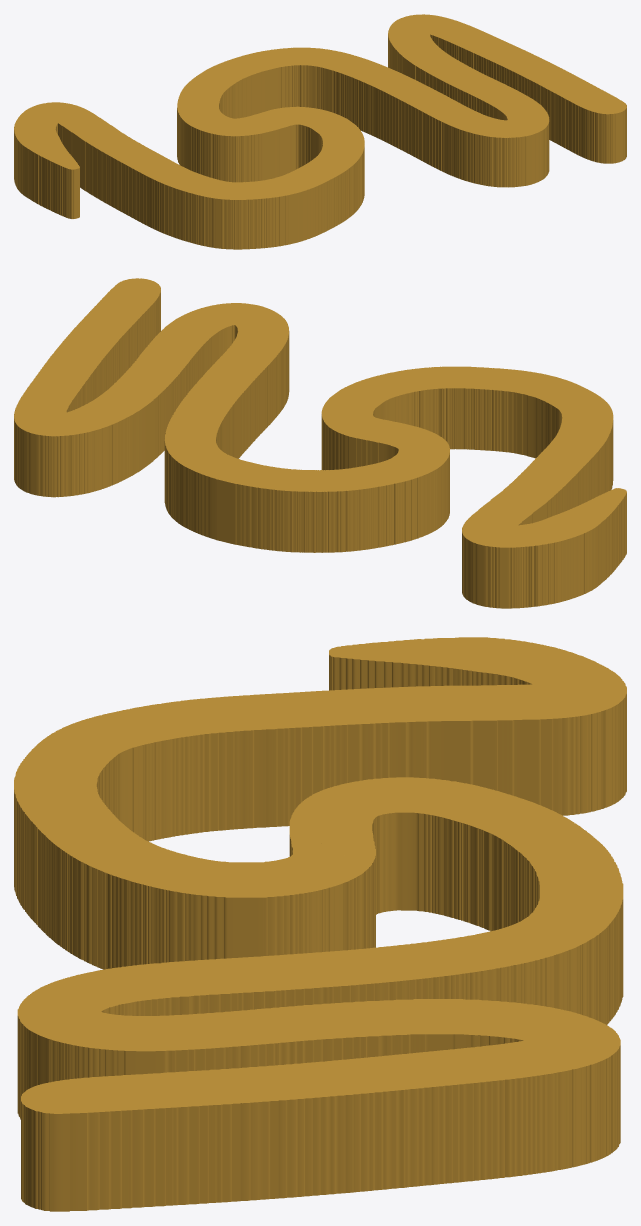
The picture shows the model from 3 angles, top to bottom: view 1: azimuth 30°, elevation 25°; view 2: azimuth 150°, elevation 25°; view 3: azimuth 270°, elevation 25°; orthographic projection. The views are drawn at different scales.
Visible parts, largest first — view 1: Curve.006; view 2: Curve.006; view 3: Curve.006.
Part boxes in pixels (x1=…): Curve.006: x1=14, y1=14, x2=626, y2=249; Curve.006: x1=14, y1=278, x2=626, y2=608; Curve.006: x1=14, y1=637, x2=626, y2=1211.
Bounding box in the file's own units: 105 × 10.06 × 57.1.
